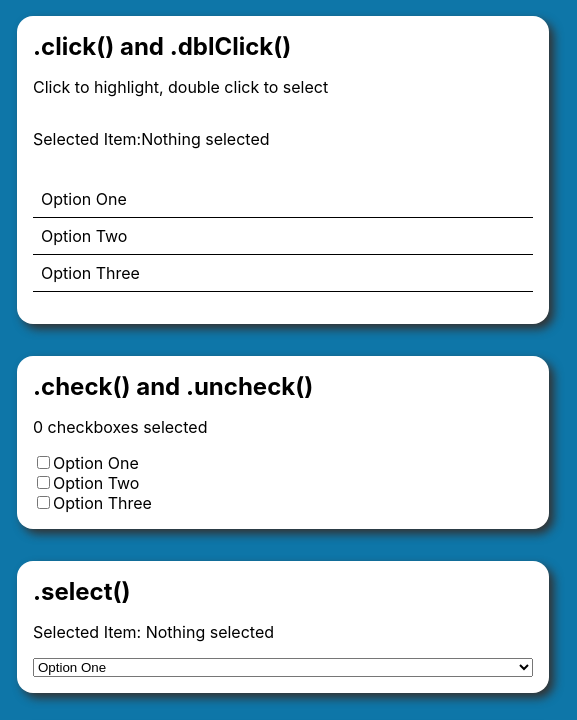
Test: Basic page interactions › displays the name of the currently selected item
Select "Option Three" in the dropdown with test id "box-3-dropdown" at (283, 668), box [33,658,533,677]
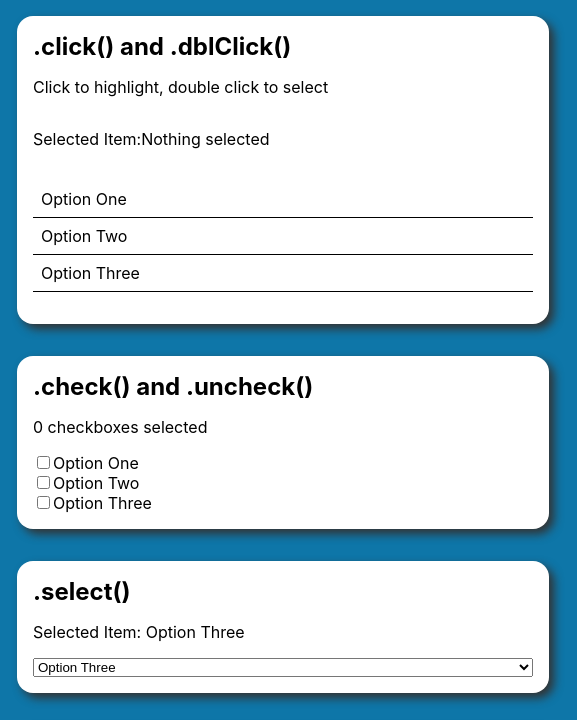
Now the text with test id "box-3-selected-name" reads "Option Three", box [146,622,245,642]
